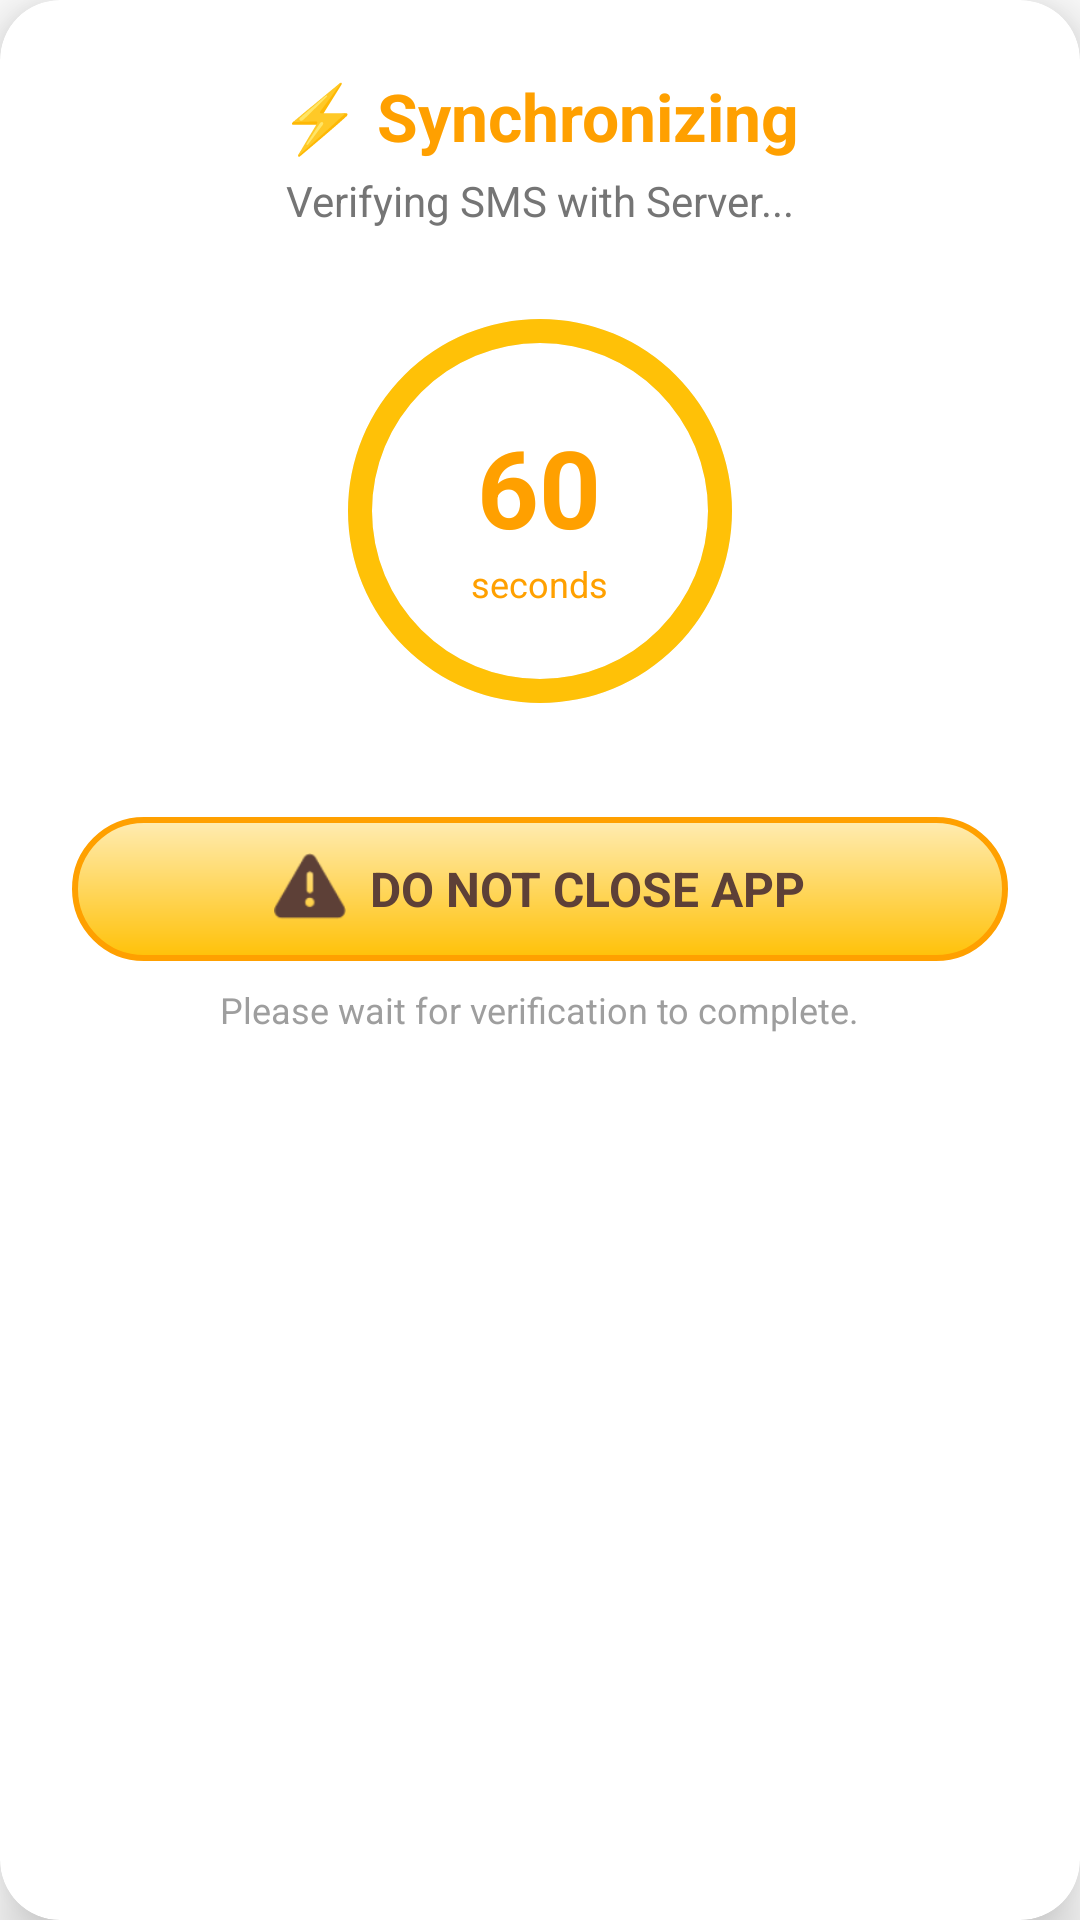

Named icons in this screenshot (1080*1920) and their centers, point (x, y):
alert: point (310, 889)
